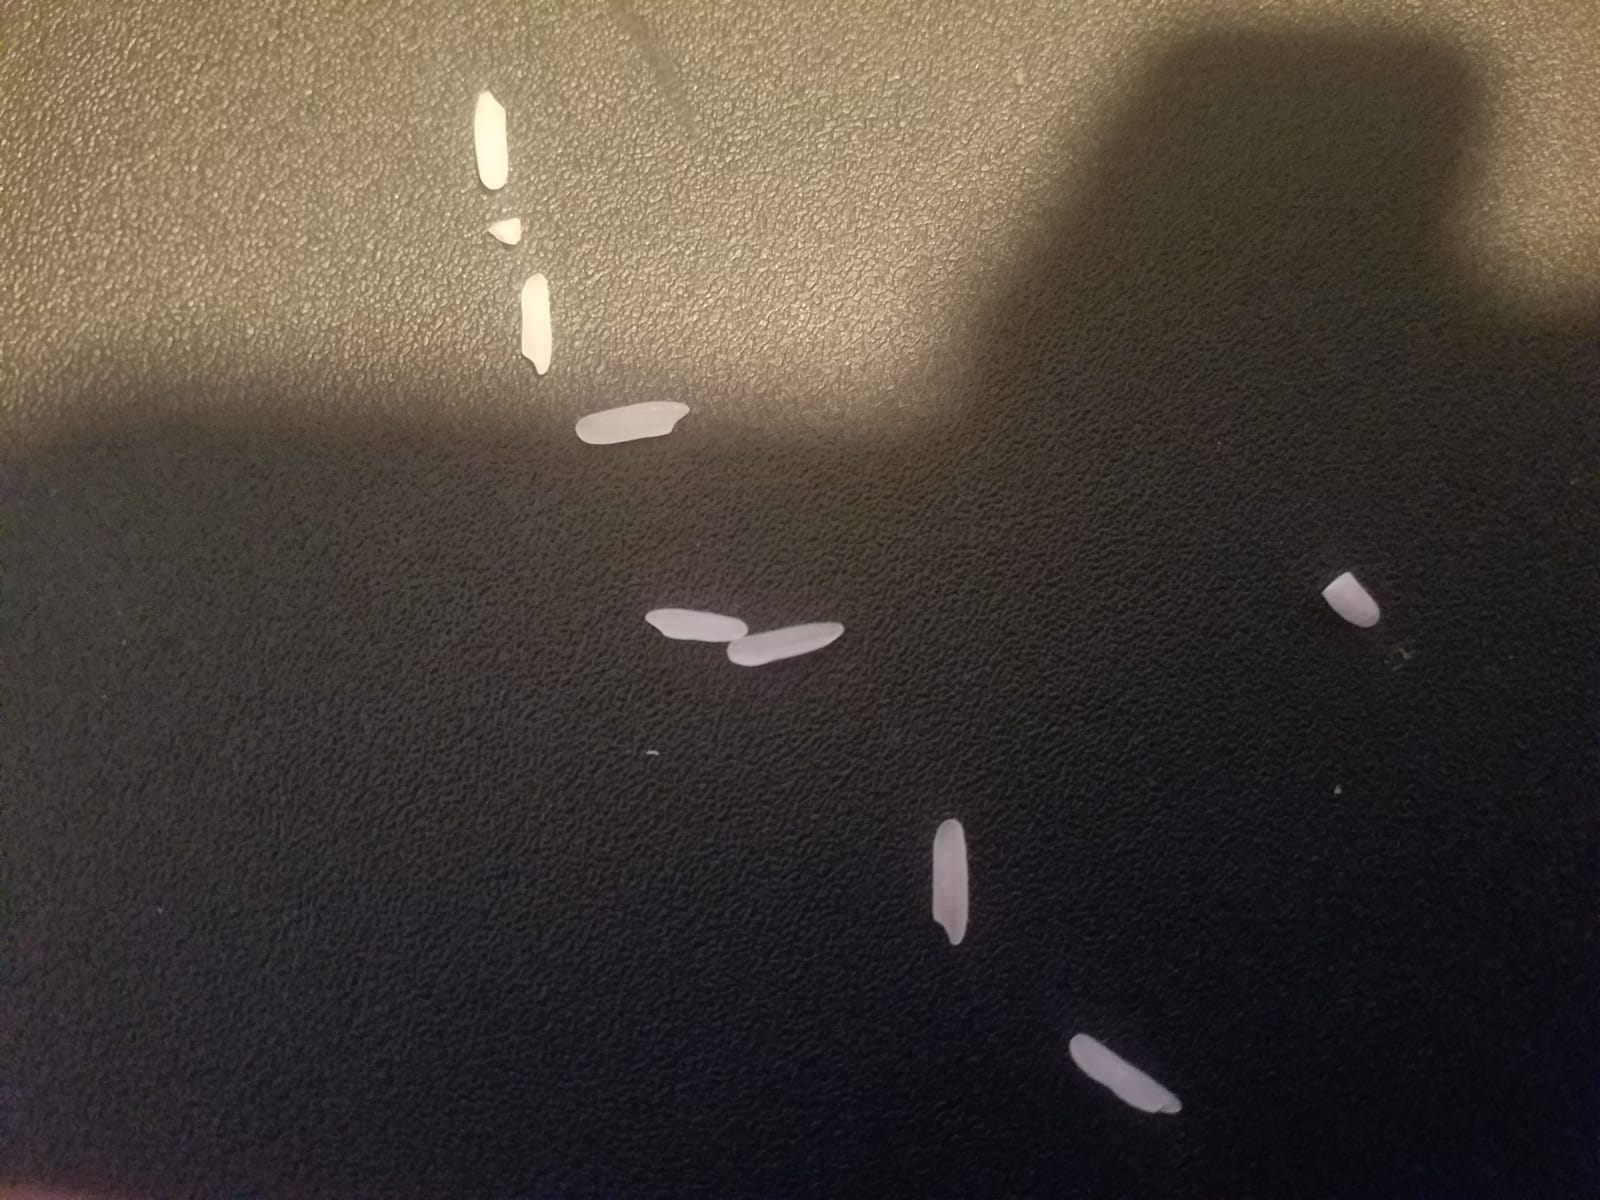egg: (1070, 1029, 1187, 1114), (717, 619, 847, 673), (569, 397, 690, 449), (929, 814, 973, 943), (469, 91, 513, 193), (517, 274, 559, 376), (1315, 567, 1380, 632), (646, 604, 750, 643), (485, 214, 524, 251)
